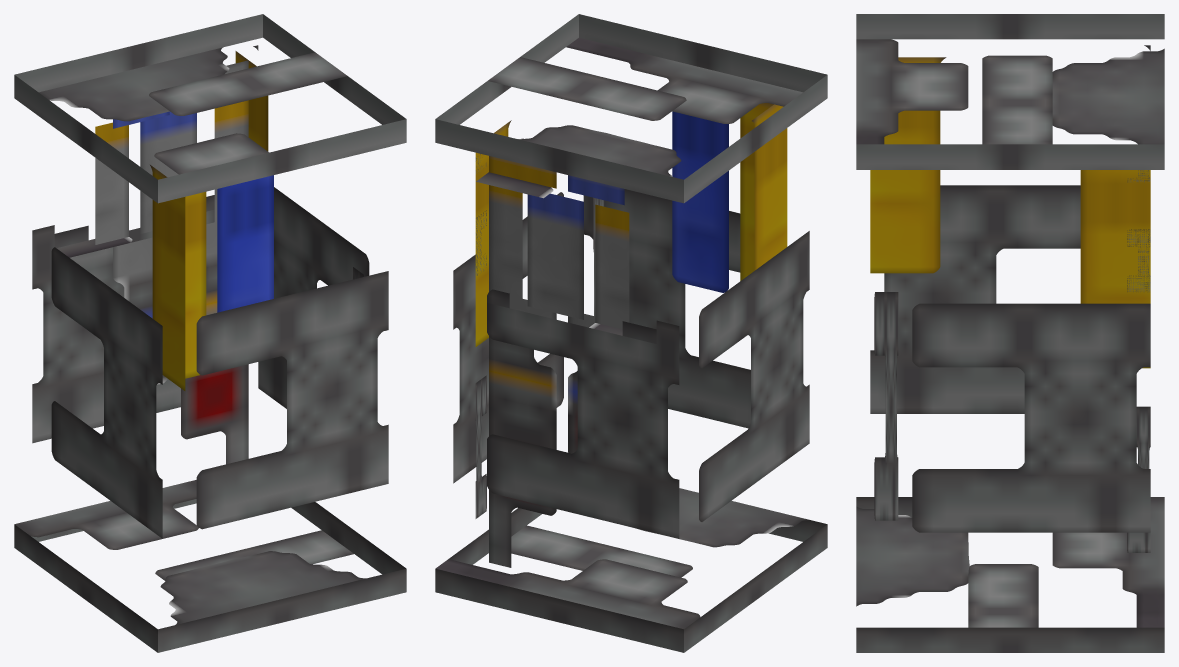
Rendered from rocket_body.obj.
3 renders of one model, left to right at view 1: azimuth 30°, elevation 25°; view 2: azimuth 150°, elevation 25°; view 3: azimuth 270°, elevation 25°, orthographic. The views are drawn at different scales.
Visible parts, largest first — view 1: RocketBody.001_Cube.025; view 2: RocketBody.001_Cube.025; view 3: RocketBody.001_Cube.025.
Part boxes in pixels (box(x1,y1,x2,y2)): RocketBody.001_Cube.025: box(14, 14, 406, 652); RocketBody.001_Cube.025: box(435, 14, 827, 652); RocketBody.001_Cube.025: box(856, 14, 1164, 652).
Bounding box in the file's own units: 1.38 × 2.5 × 1.38.
